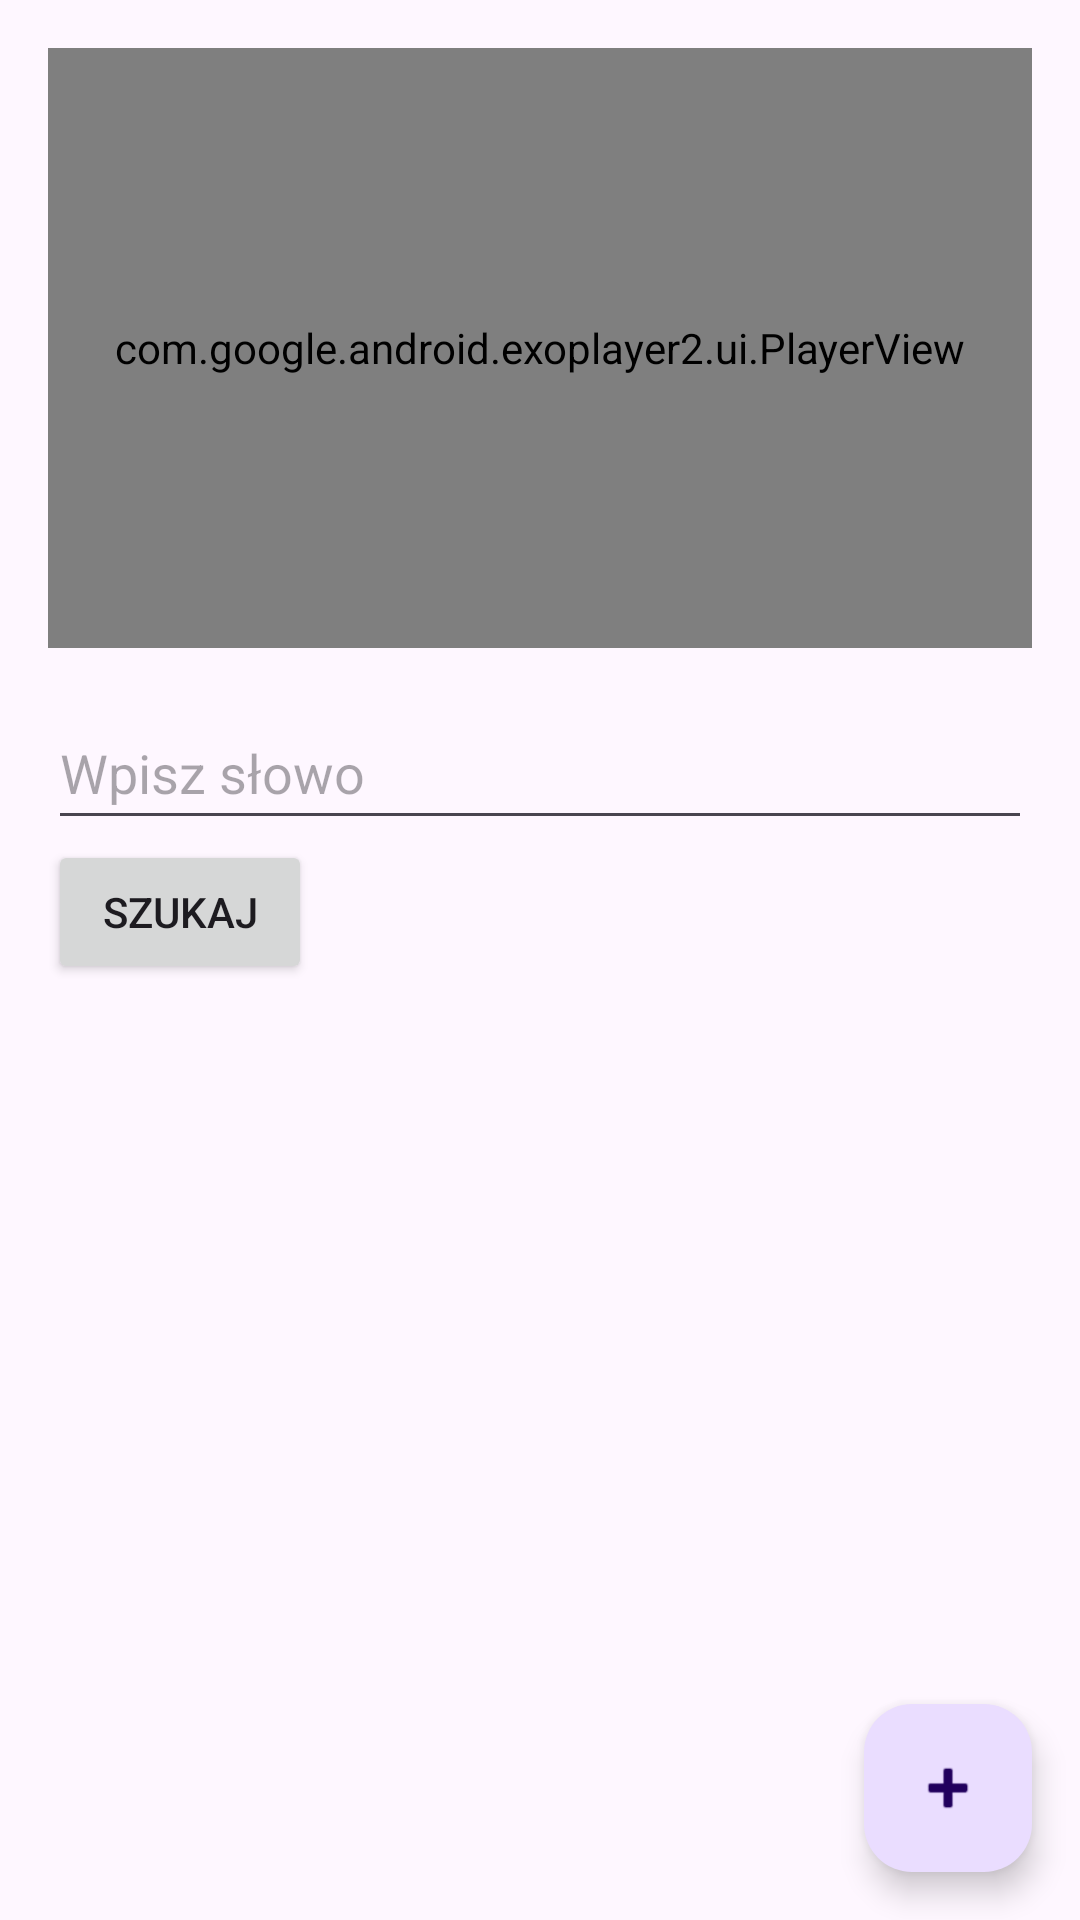

Icons on this 1080x1920 Android screen, each with its box as [x1=x1, y1=y1, x2=x2, y2=y2]:
Dodaj nowy element: [x1=864, y1=1704, x2=1032, y2=1872]
